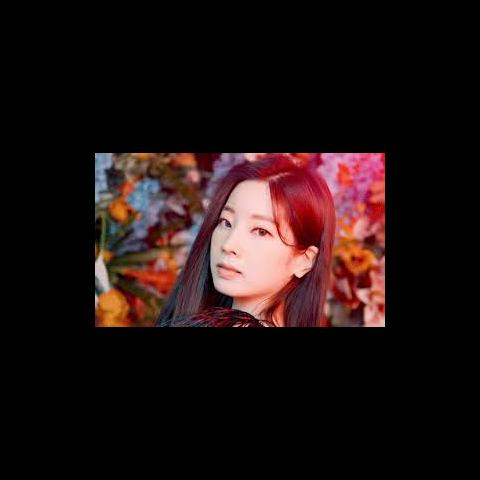opened: (216, 202, 278, 246)
